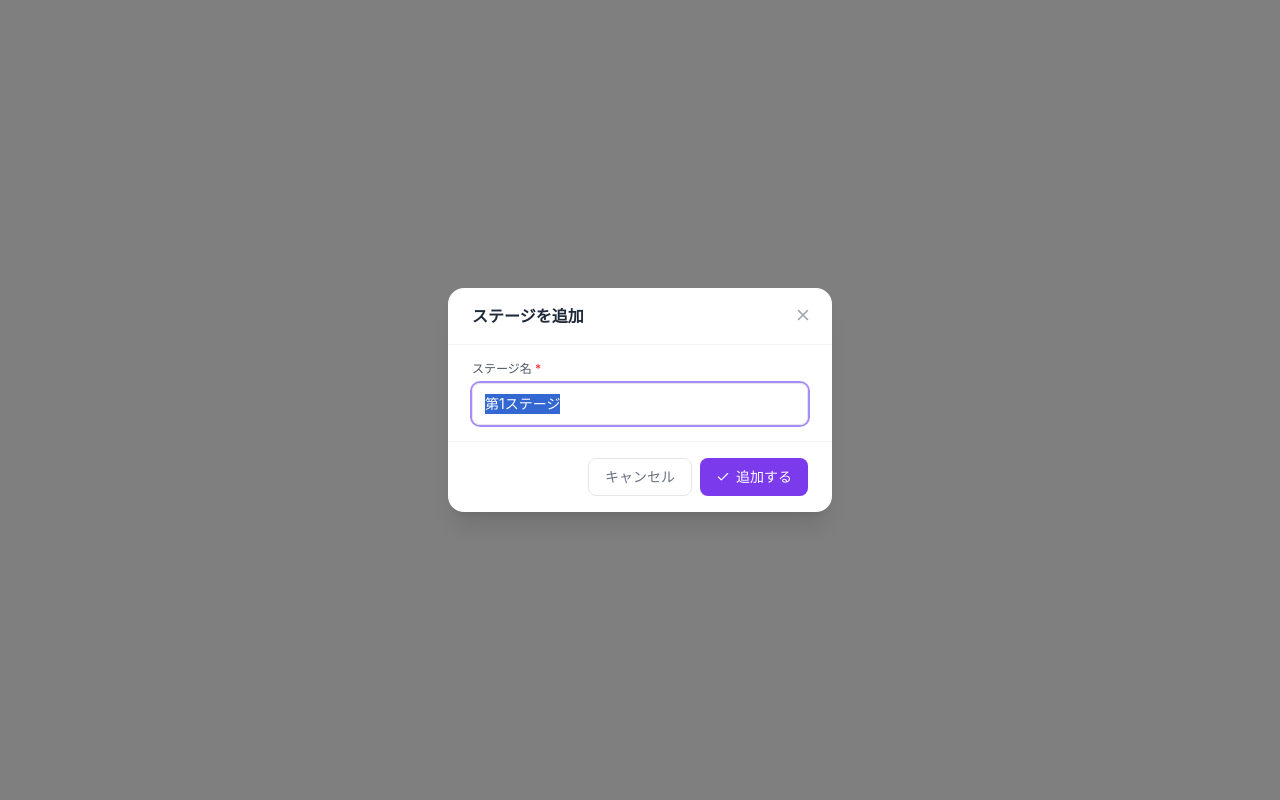
Test: AddStageModal › ステージ名が空の場合はエラーメッセージを表示する
Clear the field showing "第1ステージ" at (640, 404), box [472, 383, 808, 425]
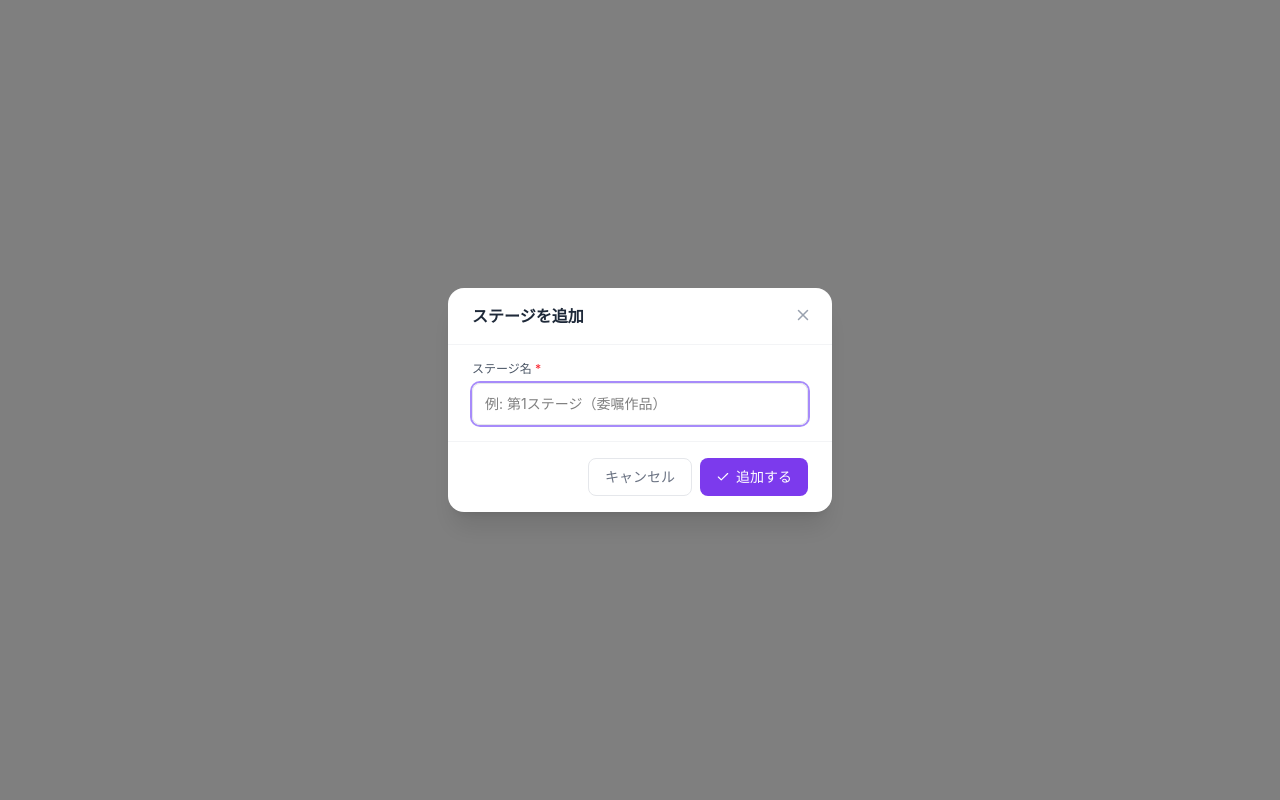
Click the button "追加する".
click(754, 477)  # box [700, 458, 808, 496]
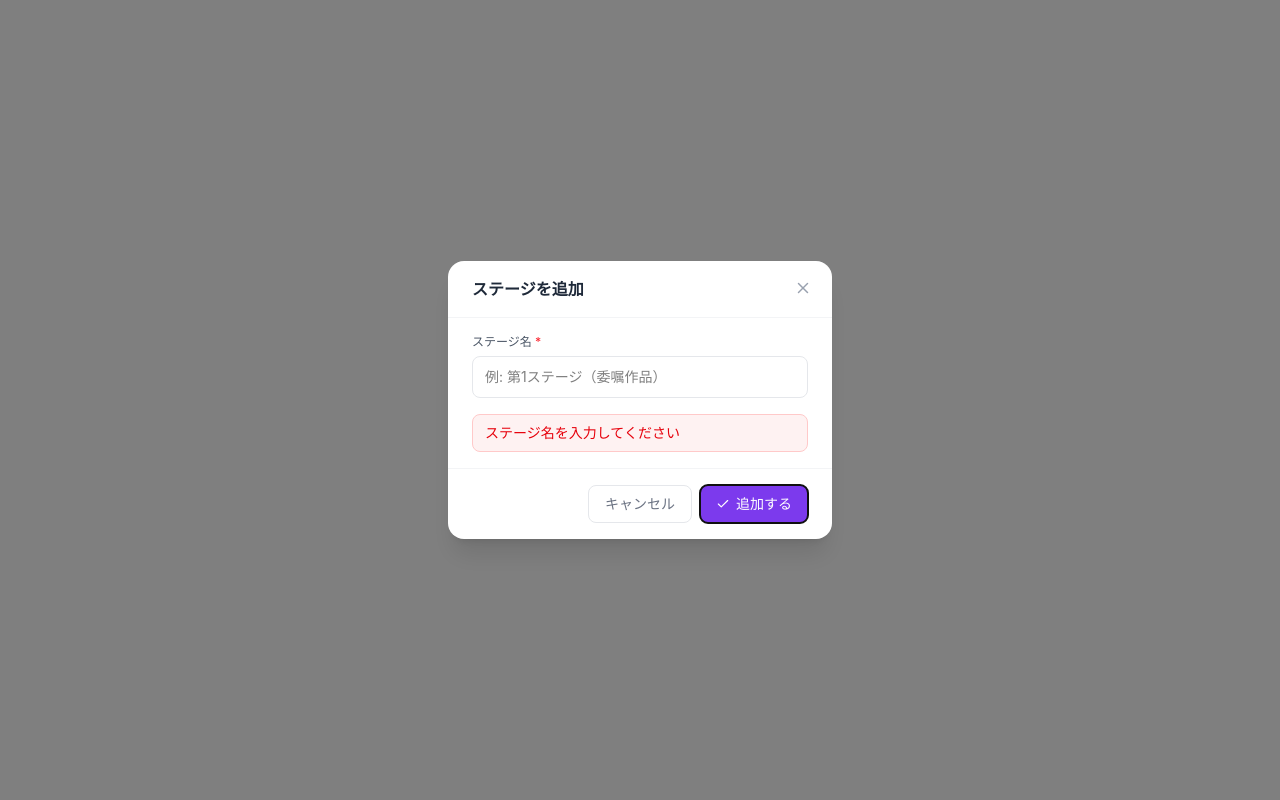
Expected: the message reads "ステージ名を入力してください", [485, 424, 680, 441]
